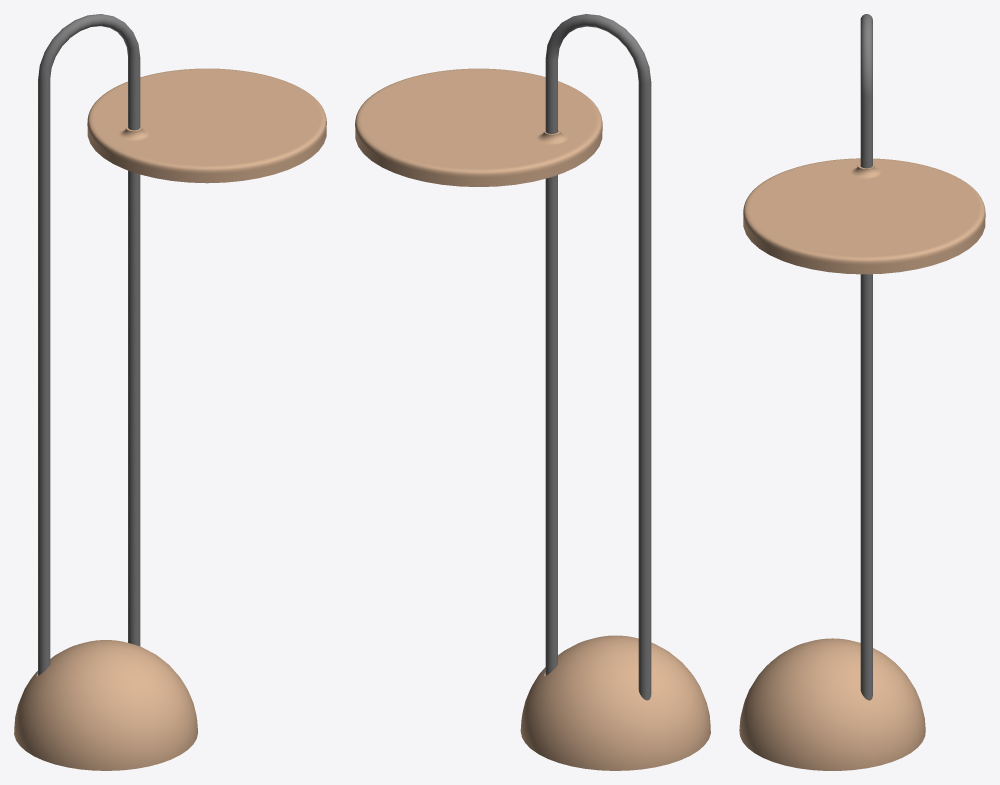
File: mesadrink.glb
The picture shows the model from 3 angles, left to right: view 1: azimuth 30°, elevation 25°; view 2: azimuth 150°, elevation 25°; view 3: azimuth 270°, elevation 25°; orthographic projection. The views are drawn at different scales.
Parts seen in each view (by area): view 1: mesa drink - WSK; view 2: mesa drink - WSK; view 3: mesa drink - WSK.
Part boxes in pixels (box(x1,y1,x2,y2)): mesa drink - WSK: box(14, 14, 326, 770); mesa drink - WSK: box(355, 14, 710, 770); mesa drink - WSK: box(739, 14, 985, 770).
Size of the model in its own units: 30.11 by 68.34 by 21.12.
